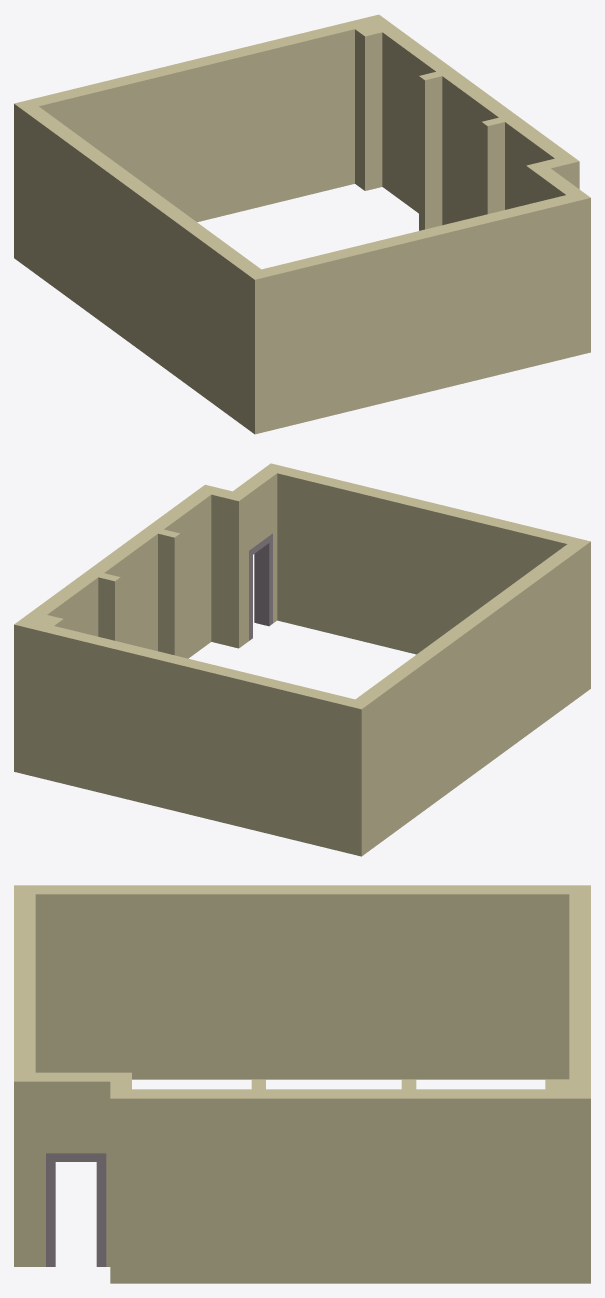
The model's file is Material-Testing.fbx.
The picture shows the model from 3 angles, top to bottom: view 1: azimuth 30°, elevation 25°; view 2: azimuth 150°, elevation 25°; view 3: azimuth 270°, elevation 25°; orthographic projection. The views are drawn at different scales.
Parts seen in each view (by area): view 1: Cube; view 2: Cube; view 3: Cube.
Part boxes in pixels (bbox=[...]): Cube: bbox=[14, 14, 590, 434]; Cube: bbox=[14, 463, 590, 856]; Cube: bbox=[14, 885, 590, 1283].
Size of the model in its own units: 1050 by 425 by 1200.
